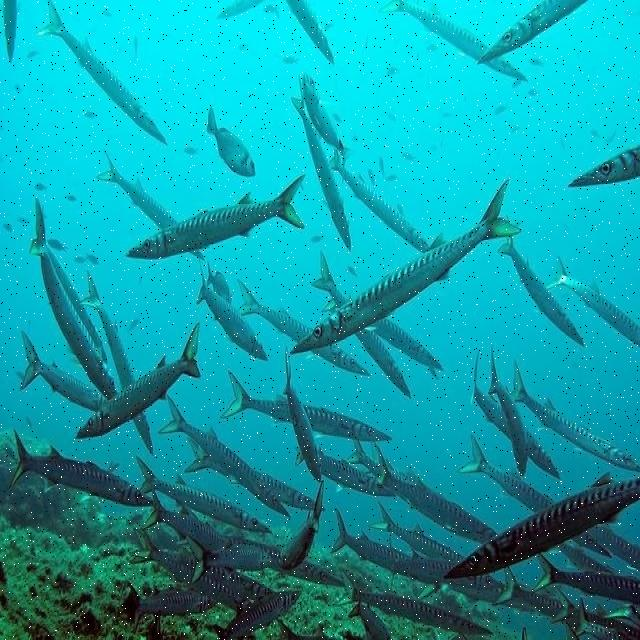fish: (290, 180, 521, 354), (444, 472, 639, 580), (36, 0, 168, 145), (29, 196, 117, 399), (158, 393, 291, 517), (126, 175, 306, 260), (77, 322, 202, 439), (509, 360, 639, 471), (79, 273, 154, 457), (374, 444, 498, 544), (220, 370, 392, 441), (10, 428, 153, 508), (135, 454, 273, 534), (329, 150, 430, 253), (337, 569, 492, 636), (498, 236, 584, 347), (291, 98, 350, 251), (459, 435, 556, 512), (474, 1, 588, 65), (196, 261, 268, 361), (21, 329, 108, 411), (269, 309, 370, 376), (378, 1, 490, 59), (97, 151, 177, 229), (369, 501, 464, 562), (142, 491, 231, 552), (284, 345, 321, 481), (489, 347, 528, 476), (332, 510, 411, 569), (318, 447, 397, 498), (208, 106, 256, 176), (238, 280, 266, 322)
